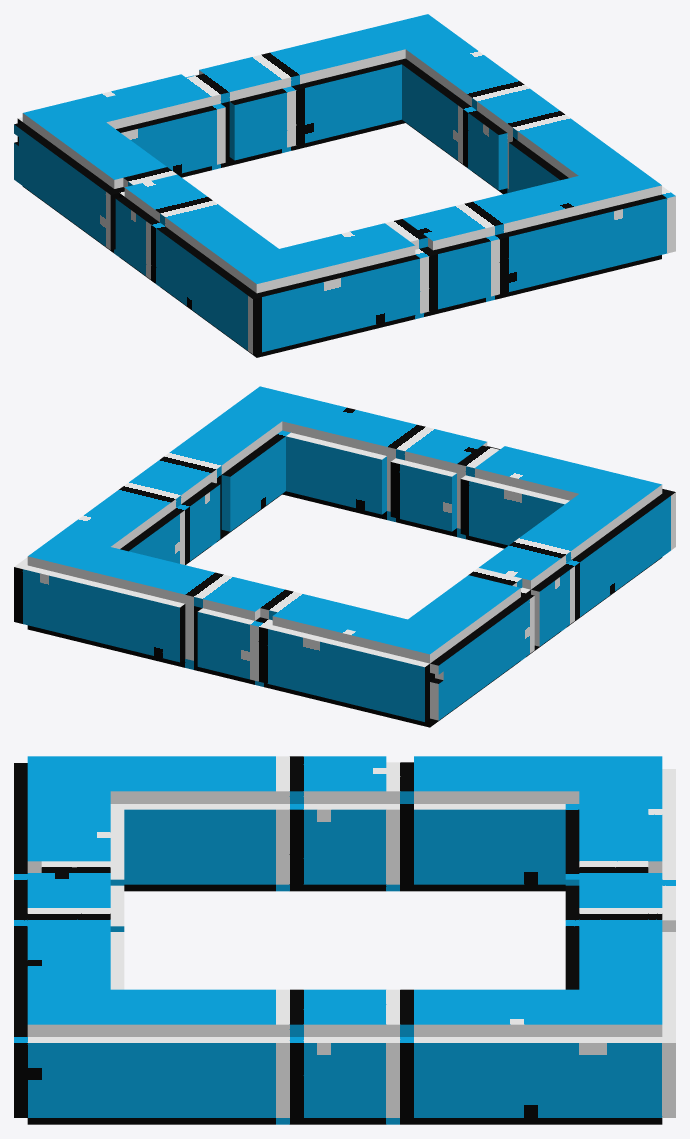
Rendered from lesser_gate_cmyao.fezao.glb.
3 views of the same model, one above another, from view 1: azimuth 30°, elevation 25°; view 2: azimuth 150°, elevation 25°; view 3: azimuth 270°, elevation 25° (orthographic). The views are drawn at different scales.
Visible parts, largest first — view 1: LESSER_GATE_CMYAO; view 2: LESSER_GATE_CMYAO; view 3: LESSER_GATE_CMYAO.
Boxes of the visible parts, bbox=[...] form: LESSER_GATE_CMYAO: bbox=[14, 14, 675, 357]; LESSER_GATE_CMYAO: bbox=[14, 386, 675, 727]; LESSER_GATE_CMYAO: bbox=[14, 756, 675, 1124].
Bounding box in the file's own units: 3 × 0.5 × 3.
Materials: 1 (1 with a texture image).
